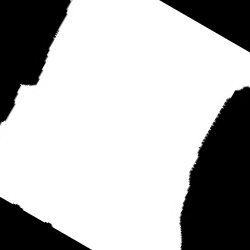spot: (2, 3, 247, 248)
